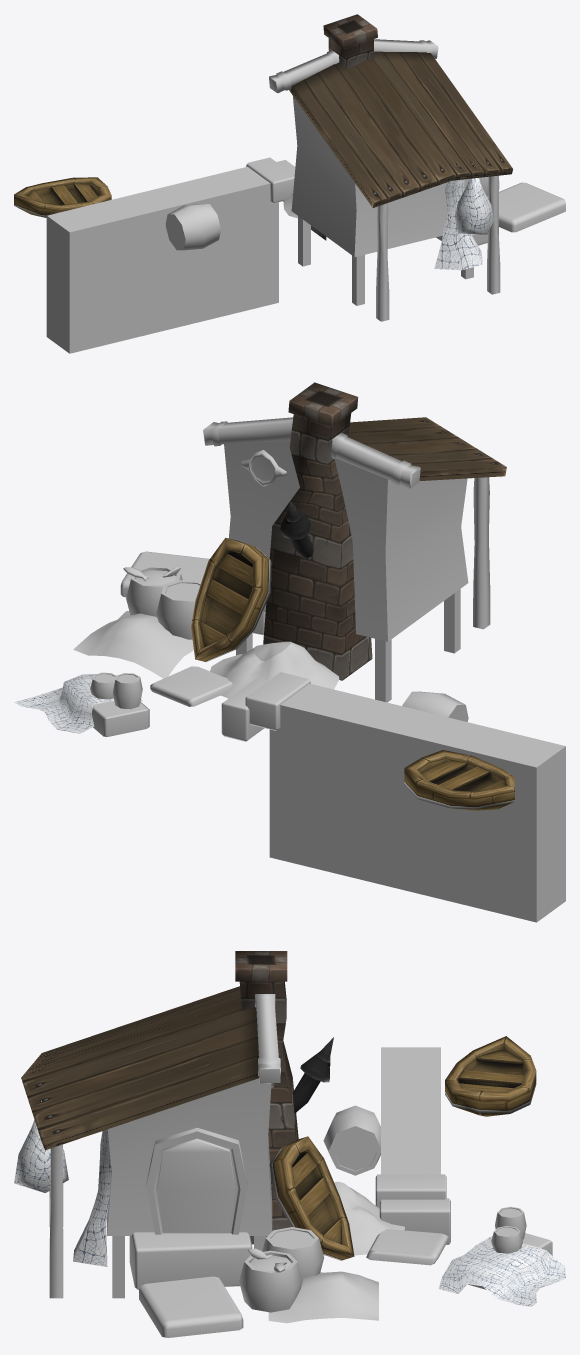
The model's file is FishingHut.fbx.
The picture shows the model from 3 angles, top to bottom: view 1: azimuth 30°, elevation 25°; view 2: azimuth 150°, elevation 25°; view 3: azimuth 270°, elevation 25°; orthographic projection. The views are drawn at different scales.
Visible parts, largest first — view 1: FishingHut, Pier, Boat2, Block2, Fishnet2, Barrel2, FishBag; view 2: FishingHut, Pier, Boat1, Boat2, FishPile1, FishPile2, Fishnet1, Barrel1, Barrel_Fish, Block3, Block2, Barrel2 (+3 smaller); view 3: FishingHut, Pier, Door8, Boat1, Block1, Boat2, Fishnet1, Block2, FishPile1, Barrel2, polySurface1175, Barrel_Fish (+7 smaller).
Boxes of the visible parts, bbox=[...] form: FishingHut: bbox=[269, 14, 512, 321]; Pier: bbox=[46, 157, 295, 353]; Boat2: bbox=[14, 177, 111, 217]; Block2: bbox=[487, 182, 565, 232]; Fishnet2: bbox=[434, 179, 482, 270]; Barrel2: bbox=[165, 204, 220, 250]; FishBag: bbox=[455, 166, 493, 234]; FishingHut: bbox=[203, 382, 506, 702]; Pier: bbox=[150, 666, 565, 922]; Boat1: bbox=[191, 537, 271, 662]; Boat2: bbox=[404, 750, 514, 810]; FishPile1: bbox=[73, 611, 193, 678]; FishPile2: bbox=[210, 641, 339, 698]; Fishnet1: bbox=[14, 674, 142, 733]; Barrel1: bbox=[156, 580, 201, 639]; Barrel_Fish: bbox=[126, 565, 182, 617]; Block3: bbox=[91, 701, 149, 737]; Block2: bbox=[120, 551, 209, 597]; Barrel2: bbox=[402, 691, 468, 721]; FishingHut: bbox=[21, 951, 298, 1298]; Pier: bbox=[366, 1047, 450, 1265]; Door8: bbox=[157, 1138, 234, 1232]; Boat1: bbox=[269, 1136, 354, 1260]; Block1: bbox=[129, 1232, 252, 1289]; Boat2: bbox=[445, 1036, 536, 1116]; Fishnet1: bbox=[438, 1236, 565, 1306]; Block2: bbox=[139, 1276, 243, 1337]; FishPile1: bbox=[268, 1271, 378, 1323]; Barrel2: bbox=[323, 1105, 380, 1175]; polySurface1175: bbox=[146, 1127, 247, 1234]; Barrel_Fish: bbox=[239, 1250, 302, 1312].
Size of the model in its own units: 21.32 by 14.66 by 18.36.
